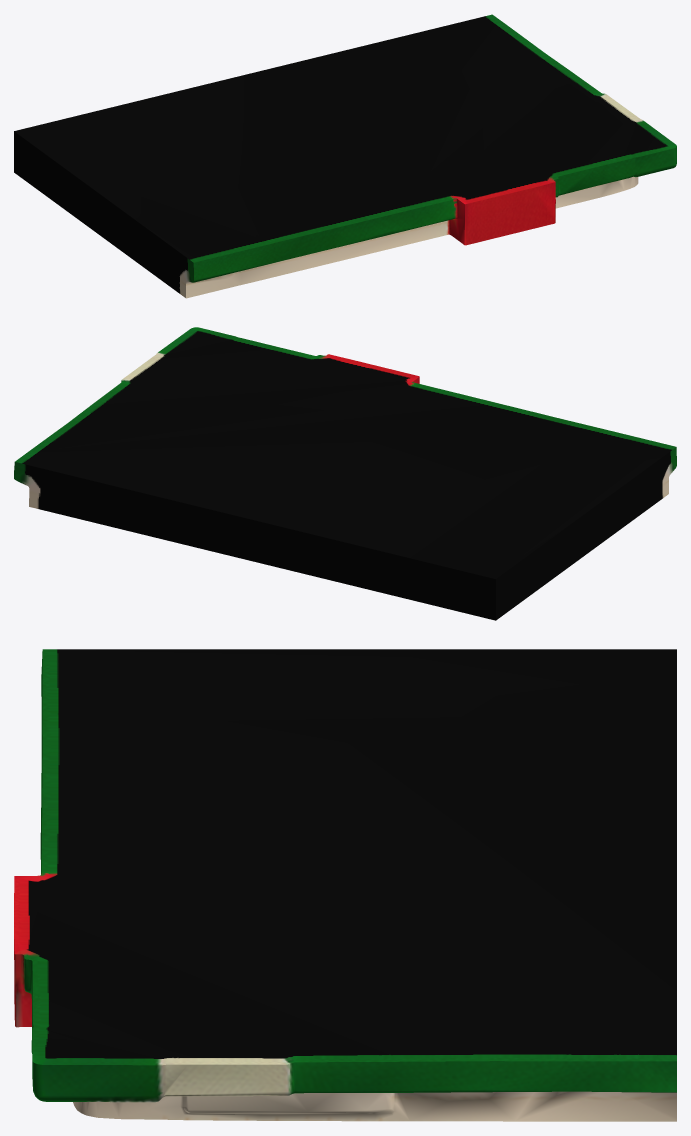
Rendered from 10-roof-front-right.fbx.
3 renders of one model, top to bottom at view 1: azimuth 30°, elevation 25°; view 2: azimuth 150°, elevation 25°; view 3: azimuth 270°, elevation 25°, orthographic. The views are drawn at different scales.
Parts seen in each view (by area): view 1: roof-front-right; view 2: roof-front-right; view 3: roof-front-right.
Boxes of the visible parts, left/top/right/bottom form: roof-front-right: left=14, top=14, right=676, bottom=298; roof-front-right: left=14, top=327, right=676, bottom=620; roof-front-right: left=14, top=649, right=676, bottom=1121.
Bounding box in the file's own units: 8919 × 728 × 6003.
Materials: 1 (1 with a texture image).
